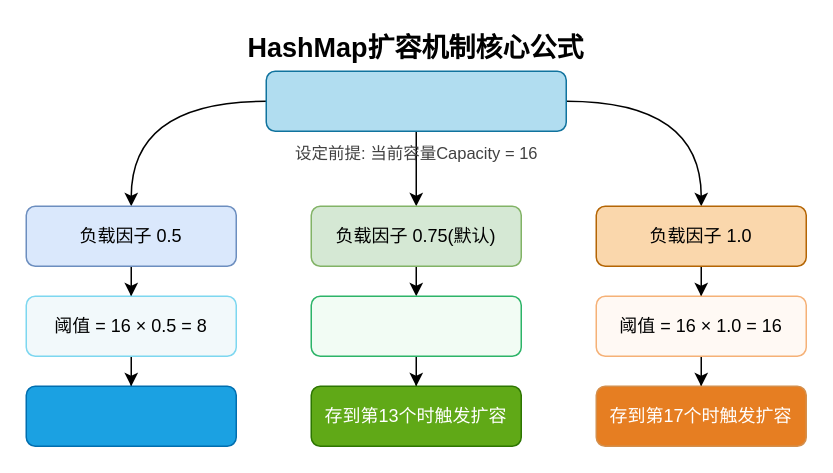
Some shapes in this 833 by 473 pixel diagram are drawn without their labels. The shapes that lost their labels are listed below. From the top down, each one's centre as x and y in pixels, then its label:
(415,100): 扩容阈值 = 容量 + 负载因子
(415,325): 阈值 = 16 × 0.75 = 12
(130,415): 存到第9个时触发扩容
